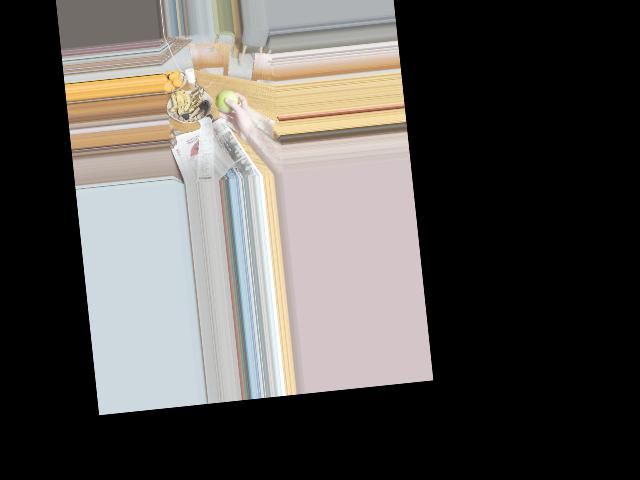apple: (214, 86, 239, 115)
